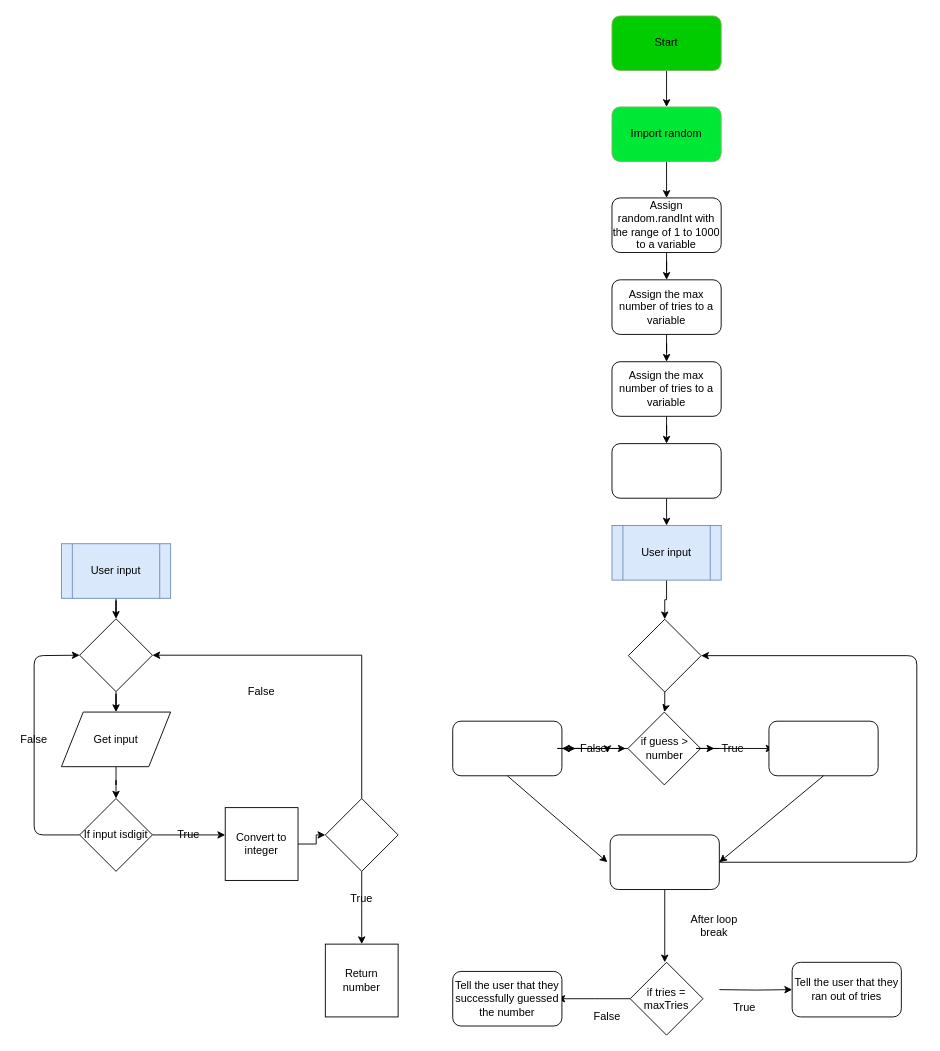
The diagram is 940 pixels wide and 1051 high, and some of its shapes have lost their labels. Here are the shapes that lost their labels. From the top down, the centre of each, then its label:
At (x=666, y=470): "Tell the user the range and how many guesses they have".
At (x=115, y=655): "while True".
At (x=664, y=655): "while tries < maxTries".
At (x=507, y=748): "Tell the user to guess higher".
At (x=823, y=748): "Tell the user to guess lower".
At (x=361, y=834): "if > min and < max".
At (x=664, y=862): "Increase tries by 1".
